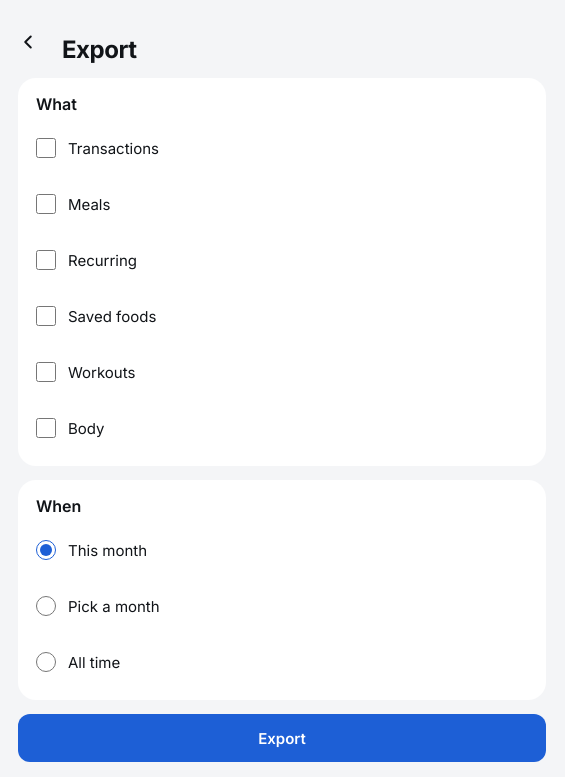
Test: Export says what happened
Click the checkbox labelled "Transactions". click: (46, 148)
box: [36,138,56,158]
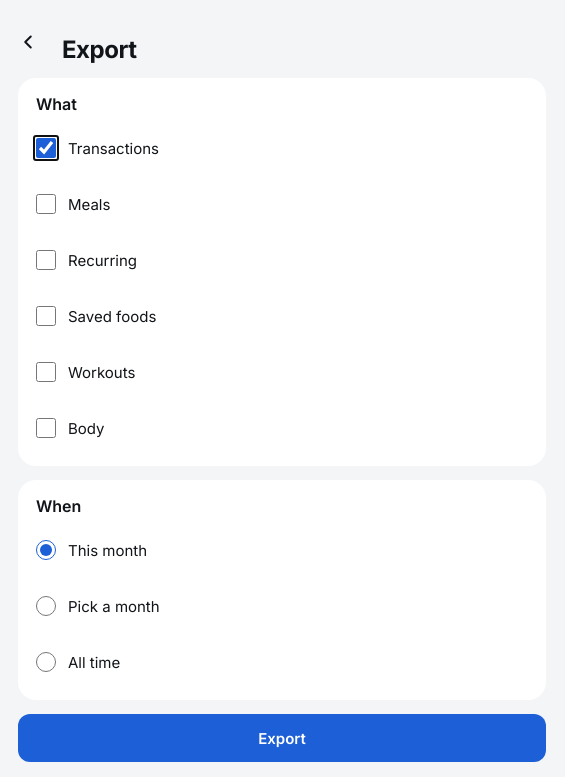
Click the checkbox labelled "Body". click: (46, 428)
box: [36,418,56,438]
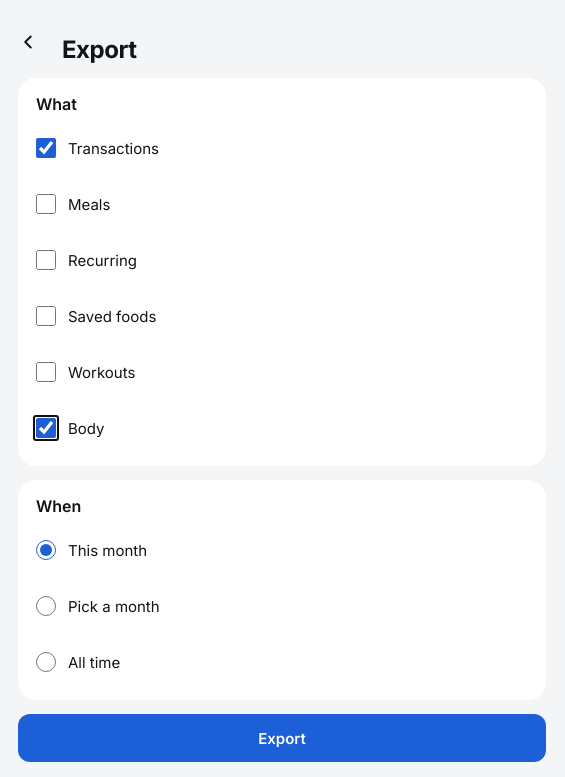
Click the button "Export". click: (282, 738)
box: [18,714,546,762]
(page scrolled)
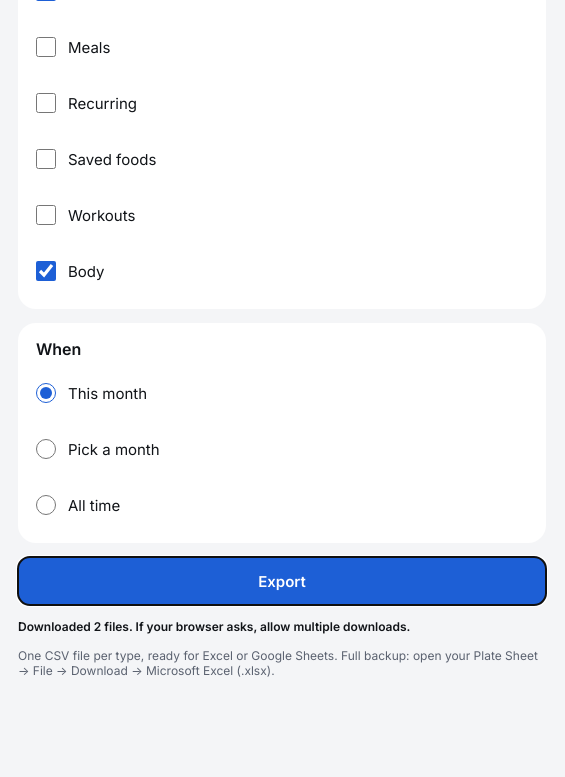
Result: the text "Downloaded 2 files. If your browser asks, allow multiple downloads." is shown at [18,619,410,634]
